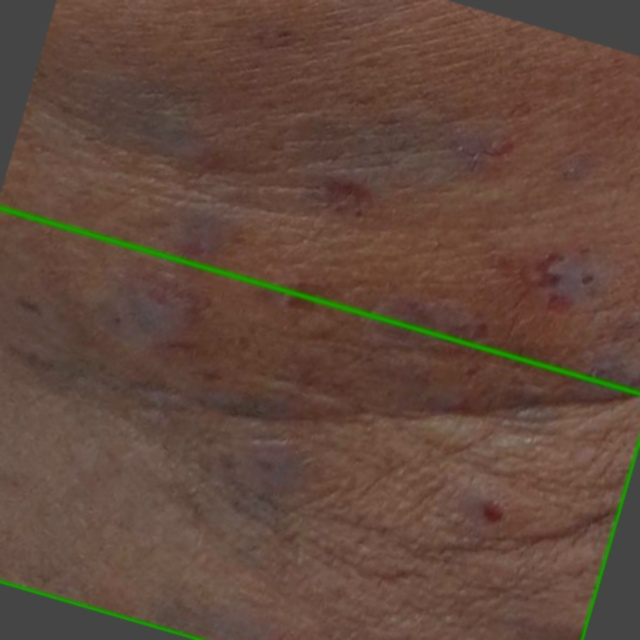Contact Dermatitis: (0, 208, 639, 639)
